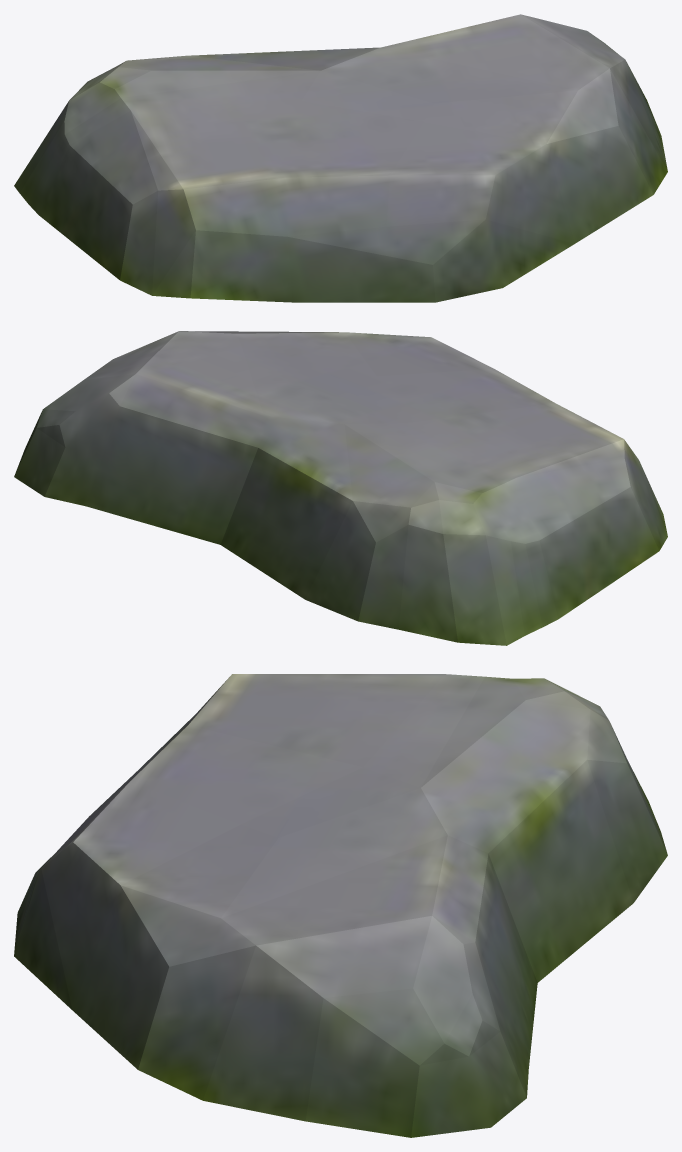
The model's file is Pebble_Round_1.glb.
The picture shows the model from 3 angles, top to bottom: view 1: azimuth 30°, elevation 25°; view 2: azimuth 150°, elevation 25°; view 3: azimuth 270°, elevation 25°; orthographic projection. The views are drawn at different scales.
Parts seen in each view (by area): view 1: Pebble_Round_1; view 2: Pebble_Round_1; view 3: Pebble_Round_1.
Boxes of the visible parts, x1,y1,x2,y2 form: Pebble_Round_1: (14,14,667,302); Pebble_Round_1: (14,331,667,645); Pebble_Round_1: (14,674,667,1137).
Size of the model in its own units: 0.5 by 0.0955 by 0.367.
1 material, 1 textured.
